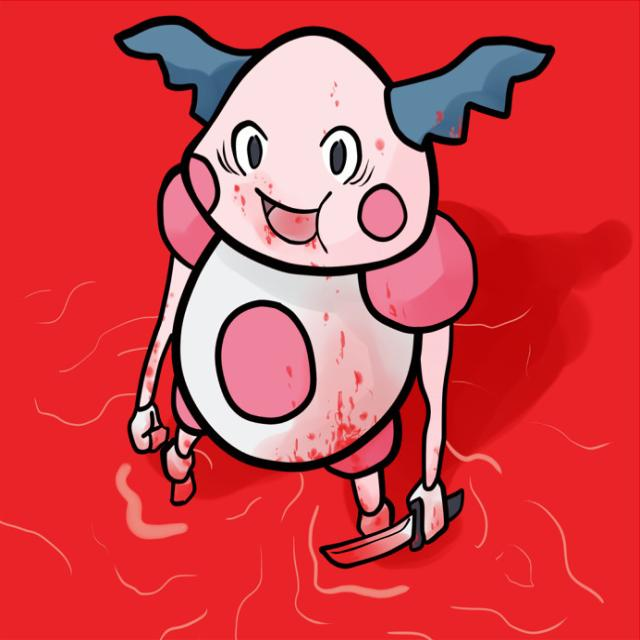MrMime: (112, 18, 478, 528)
